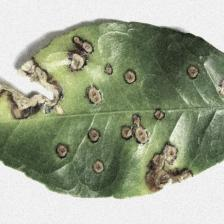canker: (0, 30, 203, 194)
